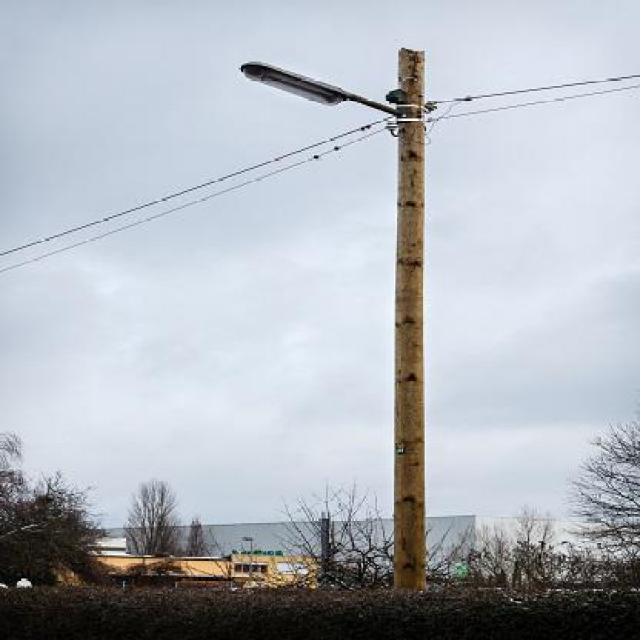pole: (362, 39, 476, 582)
